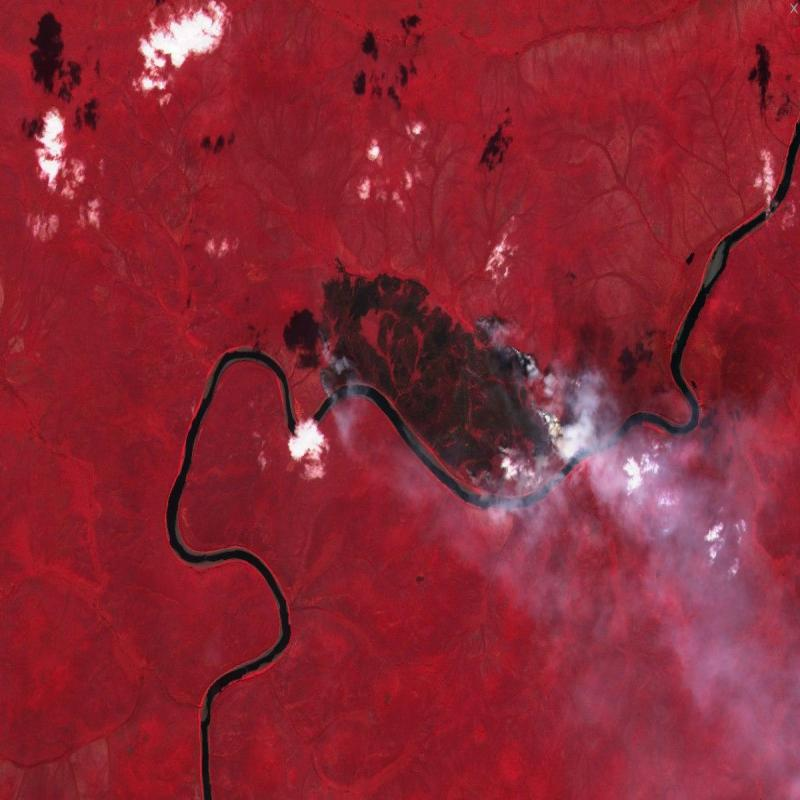fire: (494, 318, 612, 504)
